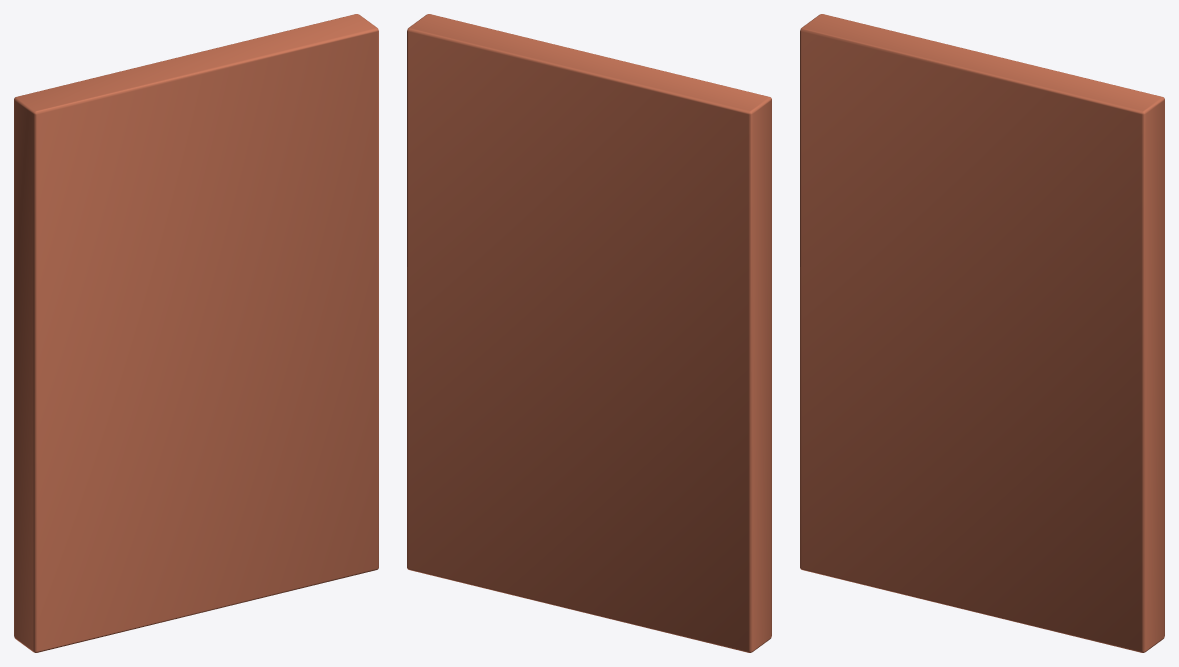
The model's file is WallUpper2m.fbx.
The picture shows the model from 3 angles, left to right: view 1: azimuth 30°, elevation 25°; view 2: azimuth 150°, elevation 25°; view 3: azimuth 330°, elevation 25°; orthographic projection.
Parts seen in each view (by area): view 1: WallUpper2m_Brick; view 2: WallUpper2m_Brick; view 3: WallUpper2m_Brick.
Part boxes in pixels (<box>): WallUpper2m_Brick: <box>14,14,378,652</box>; WallUpper2m_Brick: <box>407,14,771,652</box>; WallUpper2m_Brick: <box>800,14,1164,652</box>.
Size of the model in its own units: 2 by 3 by 0.22.
